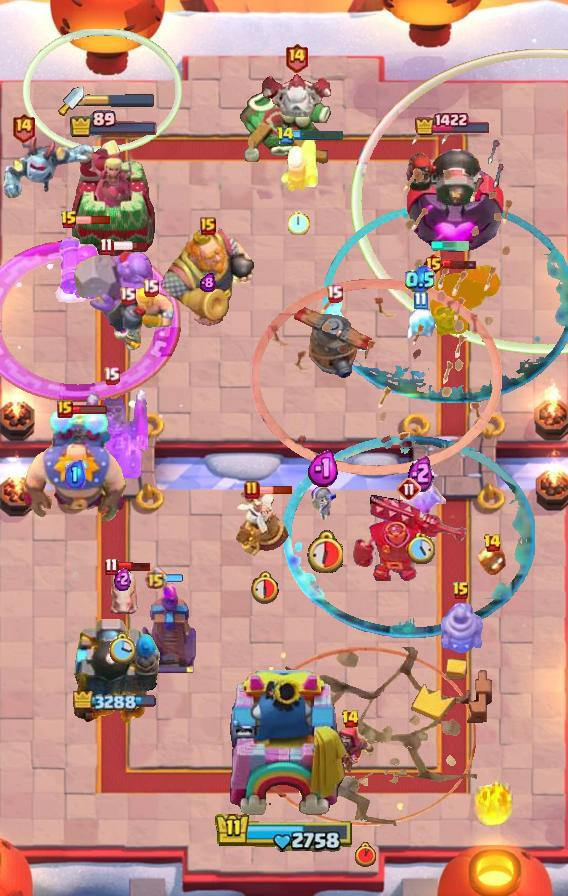archer: (126, 288, 174, 330)
archer-queen: (71, 246, 159, 322)
bar: (70, 138, 158, 256)
bat: (399, 305, 441, 343)
bomber: (476, 543, 508, 577)
bowler: (325, 722, 375, 776)
clock: (215, 811, 353, 852)
dark-prince: (289, 293, 379, 379)
electro-spirit: (307, 450, 341, 488), (408, 453, 434, 492), (405, 265, 435, 295), (66, 460, 87, 488), (114, 567, 131, 591), (200, 273, 216, 291)
elixir: (306, 530, 343, 573), (249, 570, 280, 604), (108, 632, 136, 666), (407, 532, 435, 563), (288, 210, 310, 235), (355, 841, 376, 867)
elixir-collector: (234, 487, 292, 557)
elixir-golem-small: (0, 134, 96, 200)
emote: (291, 129, 344, 141), (111, 240, 148, 252), (442, 258, 478, 270), (72, 404, 109, 415), (116, 560, 152, 571), (76, 215, 112, 225), (258, 485, 293, 495), (164, 572, 184, 583)
giant: (105, 565, 139, 621)
giant-skeleton: (154, 226, 262, 330)
goblin: (311, 485, 337, 523)
goblin-drill: (438, 603, 484, 655)
guard: (253, 647, 477, 826)
ice-spirit: (430, 241, 470, 251)
ice-spirit-evolution-symbol: (139, 583, 199, 675)
inferno-tower: (350, 493, 468, 581), (397, 260, 503, 348)
king-tower: (219, 670, 349, 826)
king-tower-bar: (84, 93, 156, 107)
knight-evolution: (0, 238, 180, 402)
little-prince: (20, 408, 130, 524)
mega-minion: (56, 223, 104, 303)
mini-pekka: (258, 72, 334, 122)
mirror: (396, 480, 446, 518)
pad_0: (283, 435, 535, 639), (324, 201, 568, 407)
princess: (103, 298, 151, 354)
selected: (69, 110, 159, 138), (414, 112, 492, 136), (72, 691, 155, 713)
skeleton-barrel: (250, 118, 514, 477)
skeleton-king-bar: (74, 390, 148, 478)
text: (284, 42, 309, 73), (12, 112, 37, 143), (397, 477, 421, 501), (423, 252, 446, 276), (145, 566, 168, 589), (276, 127, 296, 146), (482, 533, 501, 553), (340, 709, 359, 729), (60, 210, 78, 230), (452, 581, 470, 601), (325, 285, 343, 303), (119, 287, 137, 305), (103, 367, 121, 385), (142, 279, 159, 298), (244, 480, 260, 500), (200, 217, 216, 235), (57, 400, 73, 418), (99, 237, 114, 256), (413, 290, 428, 309), (105, 556, 119, 575)
tombstone: (278, 136, 320, 194)
tower-bar: (401, 138, 505, 256), (67, 611, 161, 731)
valkyrie: (469, 777, 517, 829)
